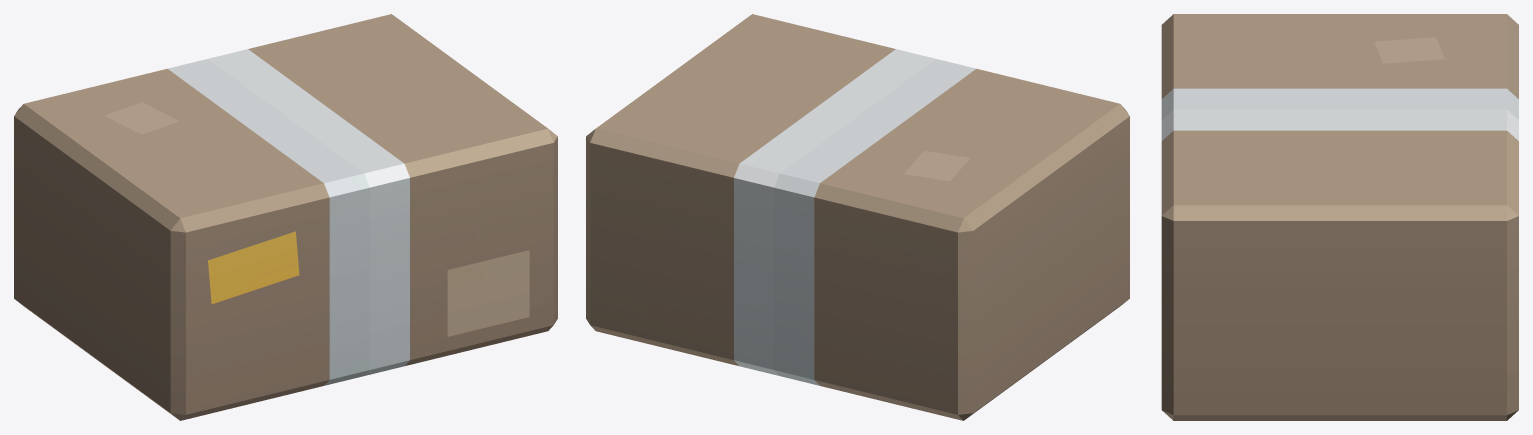
The picture shows the model from 3 angles, left to right: view 1: azimuth 30°, elevation 25°; view 2: azimuth 150°, elevation 25°; view 3: azimuth 270°, elevation 25°; orthographic projection. The views are drawn at different scales.
Parts seen in each view (by area): view 1: Box_C; view 2: Box_C; view 3: Box_C.
Part boxes in pixels (box(x1,y1,x2,y2)): Box_C: box(14, 14, 557, 420); Box_C: box(586, 14, 1129, 420); Box_C: box(1161, 14, 1518, 420).
Bounding box in the file's own units: 0.8 × 0.4022 × 0.6061.
Materials: 1 (1 with a texture image).
